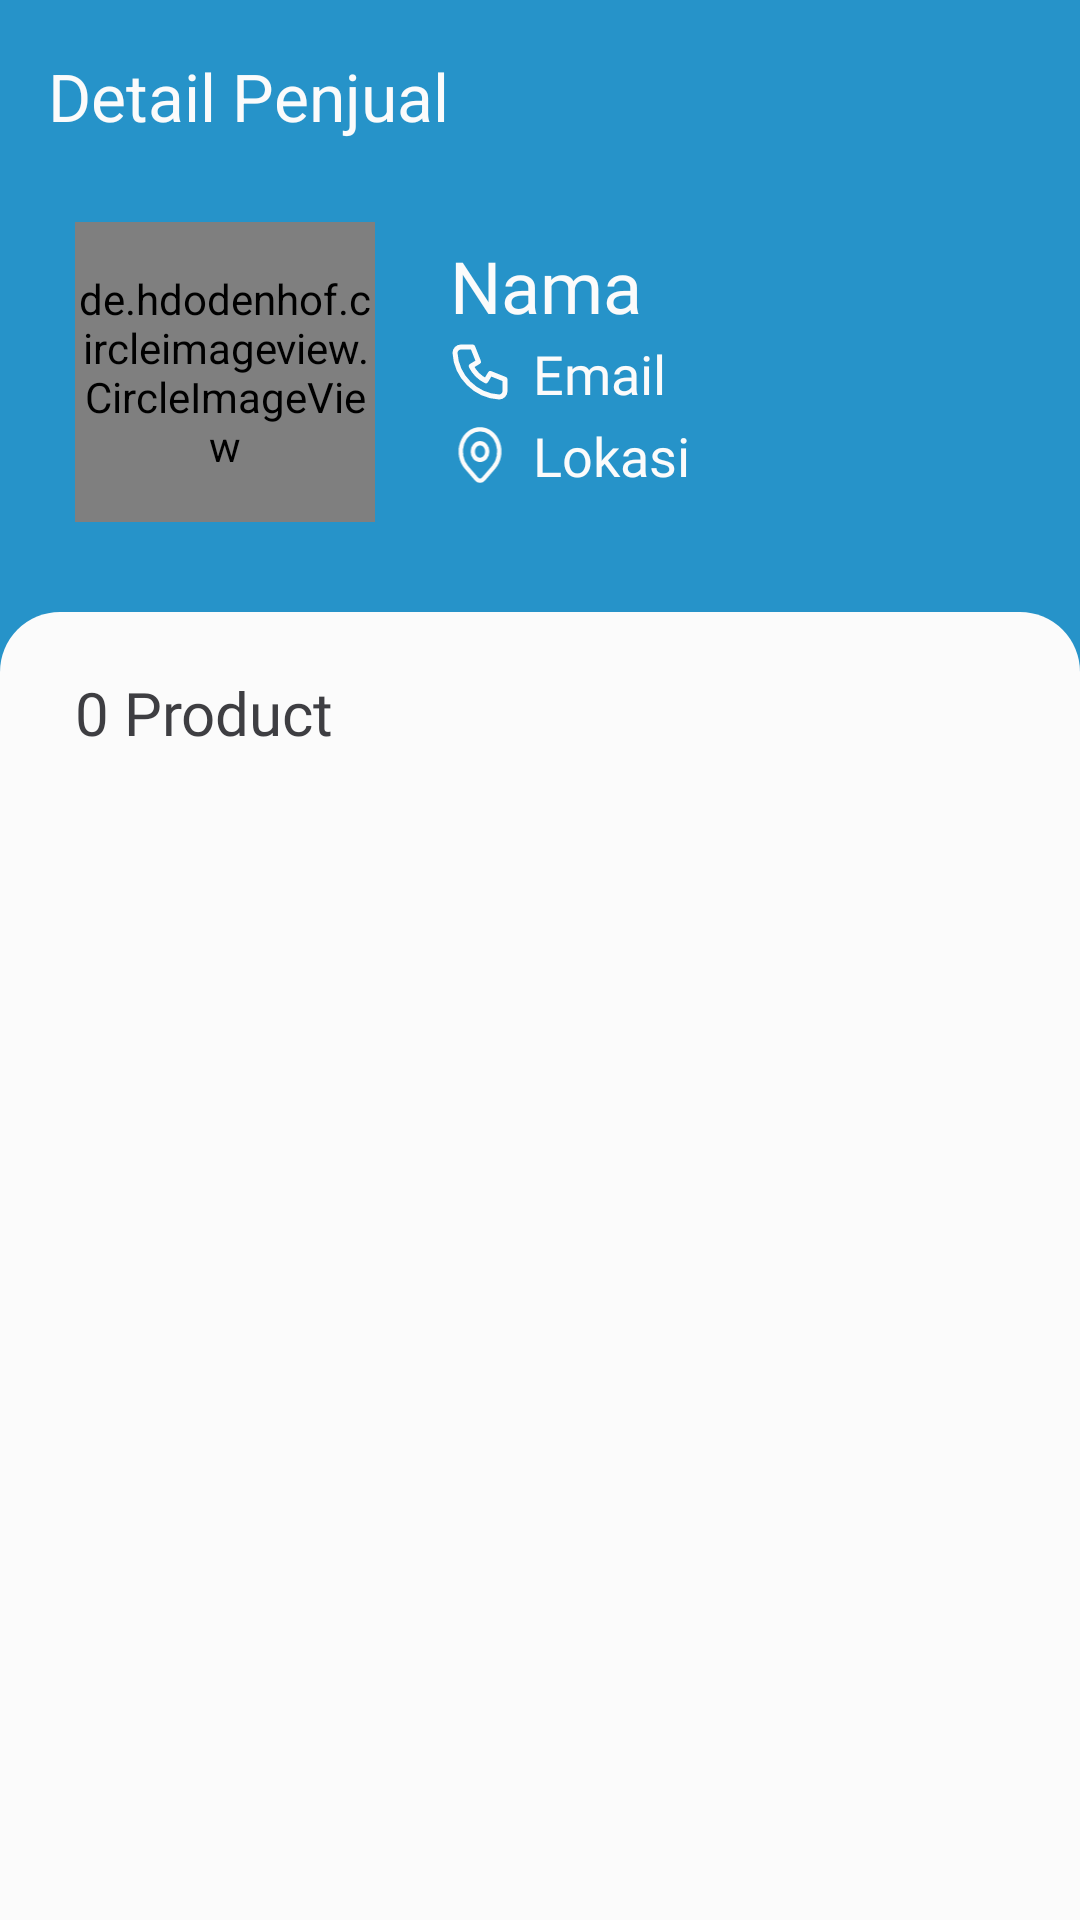

Locate icon controls on the screen. Image size 1080*1920, boxes as (x1, y1, x2, y2).
Image Location Seller Detail: (458, 427, 502, 483)
Image Phone Seller Detail: (452, 344, 508, 400)
